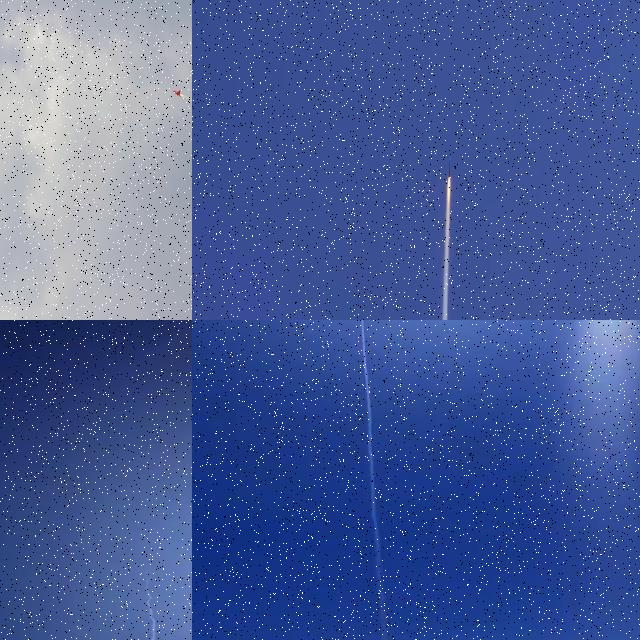Rocket: (448, 157, 452, 180), (172, 89, 181, 98), (146, 579, 149, 582)
